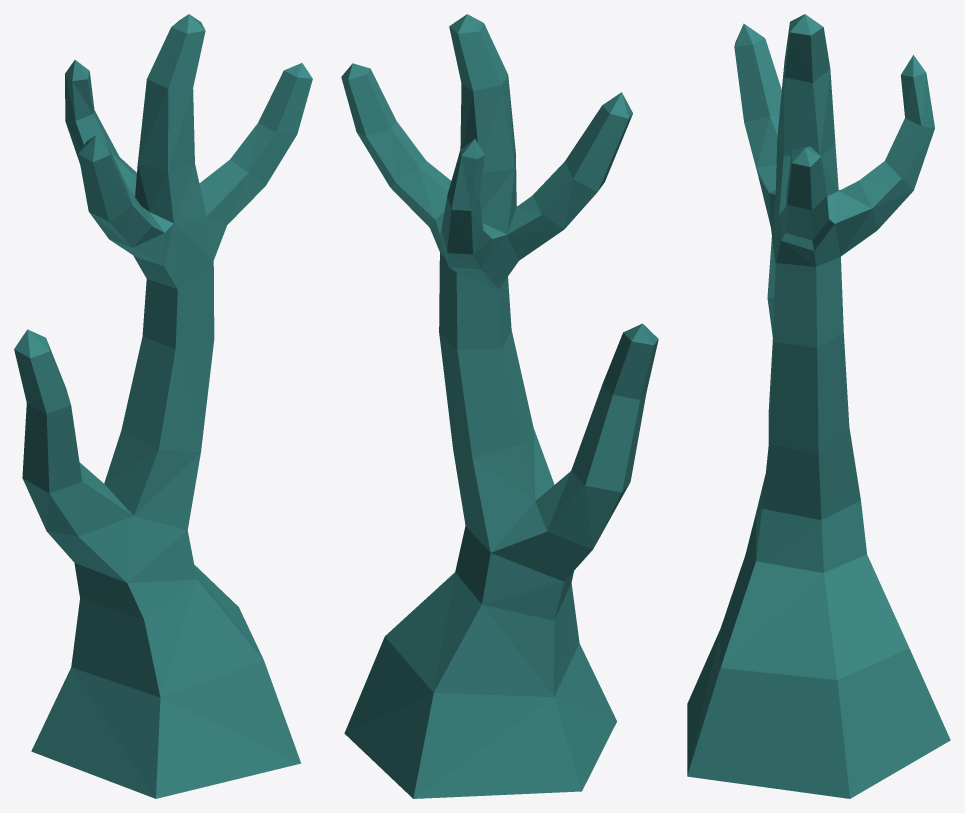
The model's file is SM_Coral_Staghorn_B.fbx.
3 views of the same model, side by side, from view 1: azimuth 30°, elevation 25°; view 2: azimuth 150°, elevation 25°; view 3: azimuth 270°, elevation 25° (orthographic). The views are drawn at different scales.
Visible parts, largest first — view 1: coral-staghorn-b; view 2: coral-staghorn-b; view 3: coral-staghorn-b.
Boxes of the visible parts, x1,y1,x2,y2 form: coral-staghorn-b: (14, 14, 312, 798); coral-staghorn-b: (341, 14, 658, 798); coral-staghorn-b: (687, 14, 950, 798).
Bounding box in the file's own units: 0.361 × 0.8229 × 0.2674.
